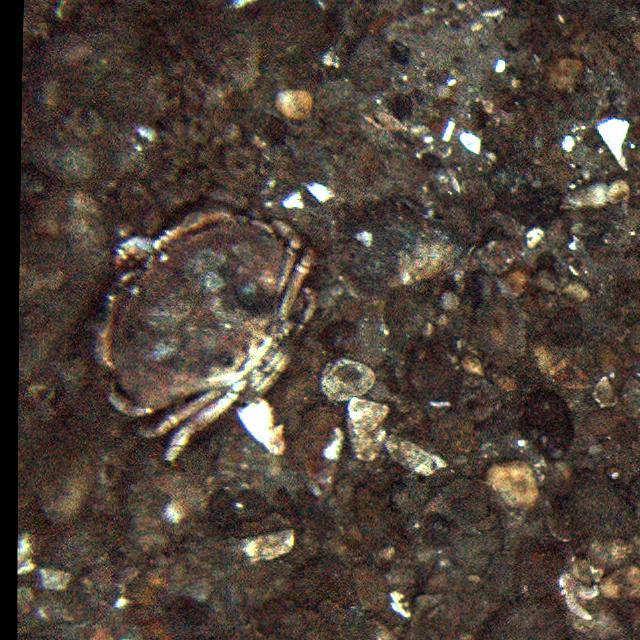crab: (106, 216, 309, 443)
